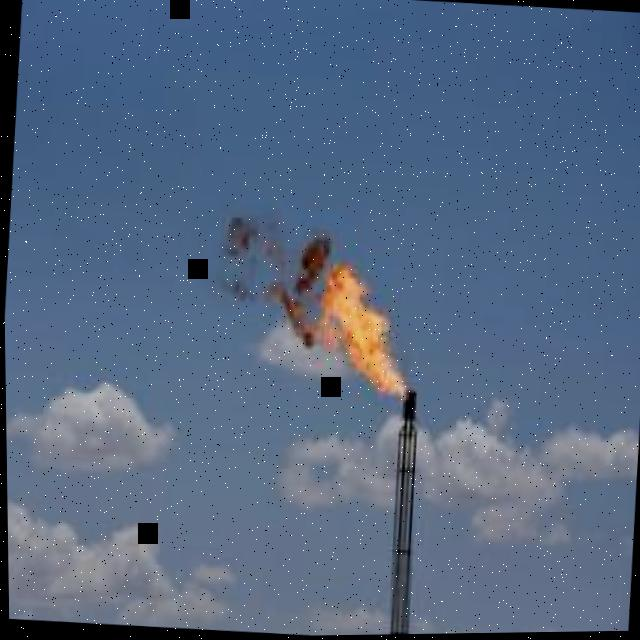fire: (269, 237, 407, 399)
smoke: (215, 215, 258, 256), (214, 280, 255, 303), (265, 240, 294, 272)
